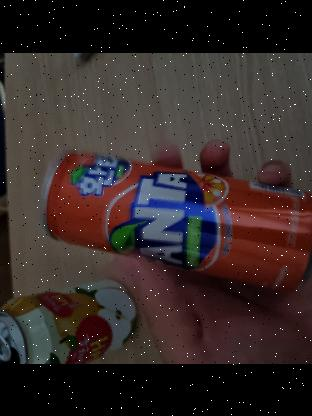Can: (44, 150, 312, 293)
